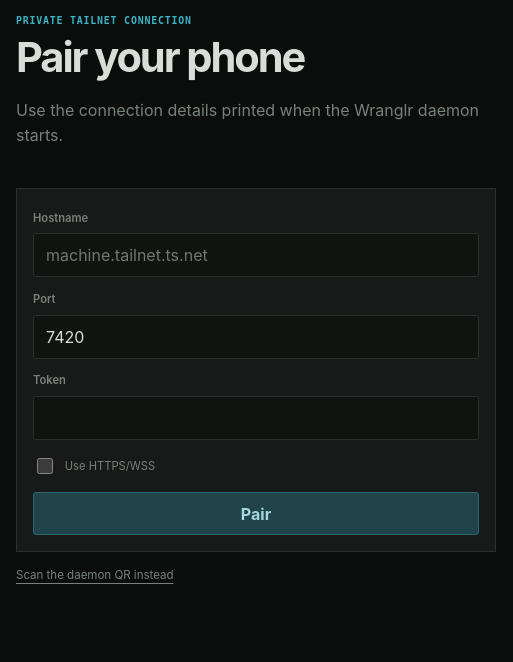
Scenario: PairPage › does not save and shows error when port is invalid
Type "100.64.1.2" into the field labelled "Hostname" at [256, 255], box [33,233,479,277]
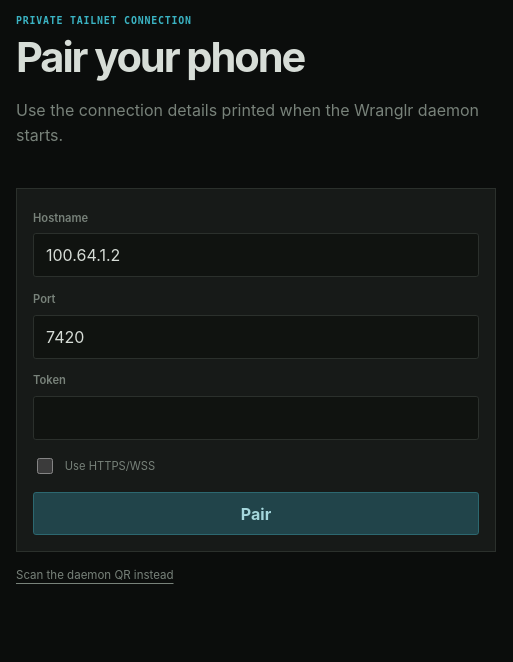
Replace the text in the field labelled "Port" with "abc" at [256, 336], box [33,314,479,358]
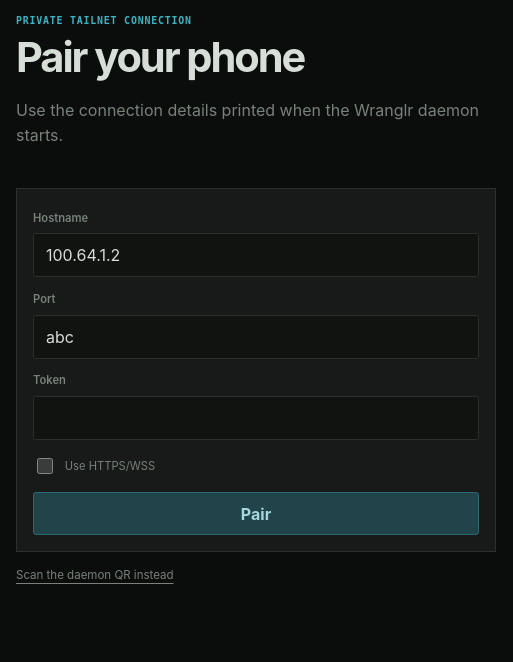
Type "secret" into the password field labelled "Token" at [256, 418], box [33,396,479,440]
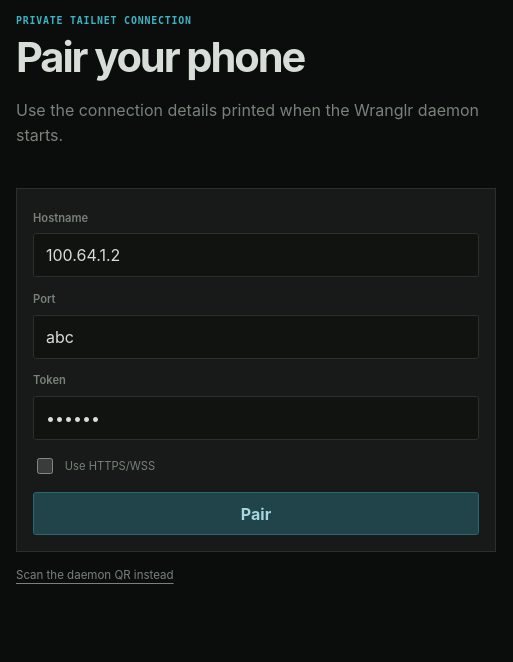
Click the button "Pair" at [256, 514], box [33,492,479,535]
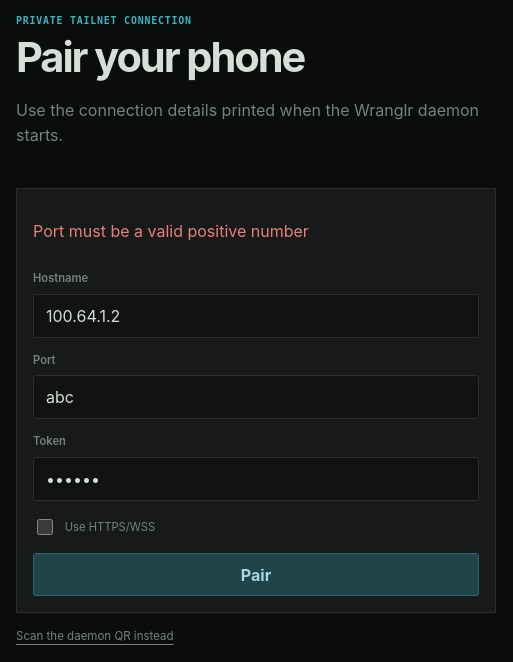
Expected: the message "Port must be a valid positive number" is shown, [33,221,309,241]
